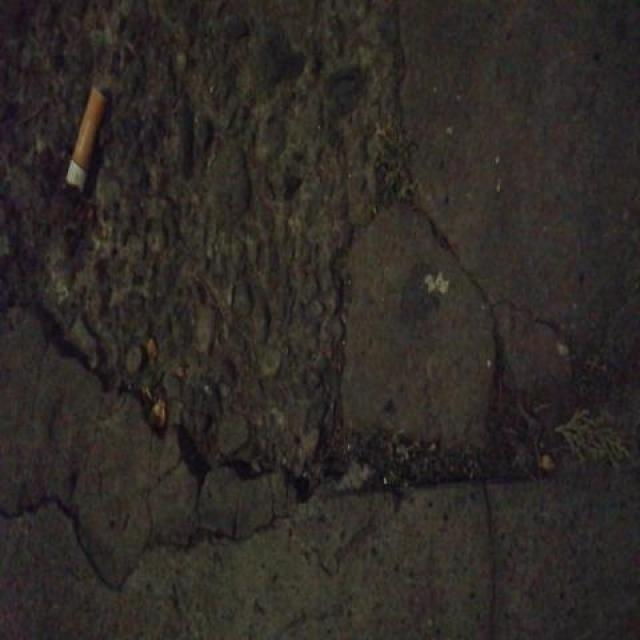non-organic waste: (61, 84, 110, 193)
